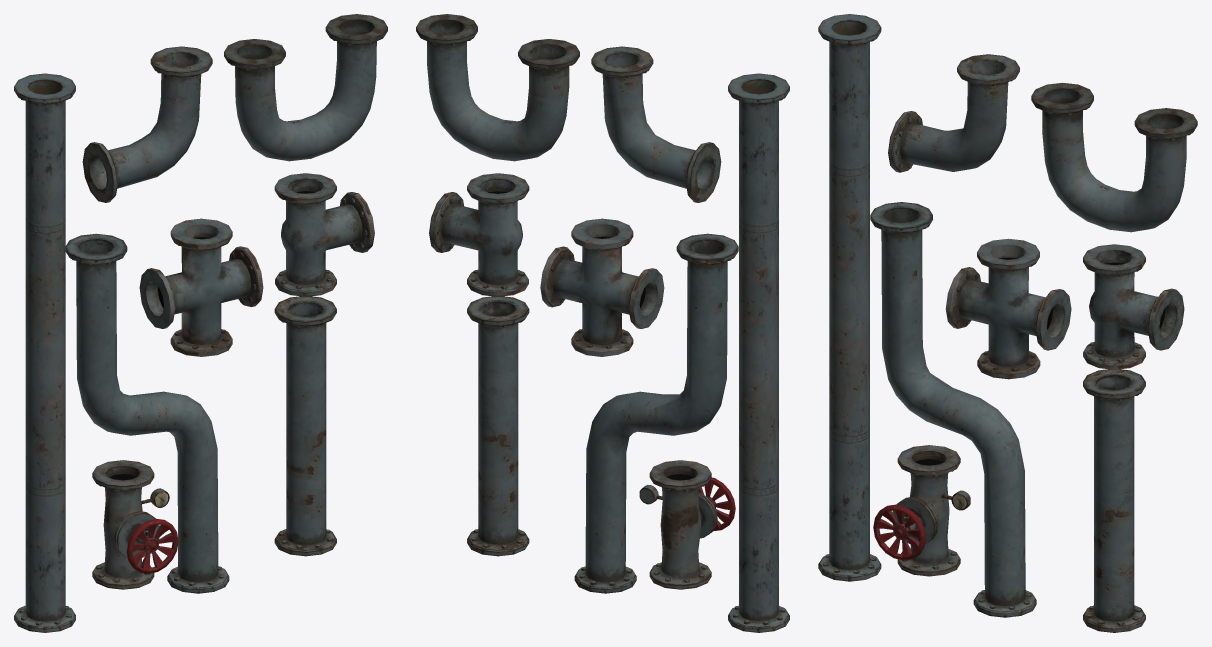
File: industrial_pipes.glb
3 views of the same model, side by side, from view 1: azimuth 30°, elevation 25°; view 2: azimuth 150°, elevation 25°; view 3: azimuth 330°, elevation 25° (orthographic).
Visible parts, largest first — view 1: modular_industrial_pipes_01_pipe01, modular_industrial_pipes_01_pipe05; view 2: modular_industrial_pipes_01_pipe01, modular_industrial_pipes_01_pipe05; view 3: modular_industrial_pipes_01_pipe01, modular_industrial_pipes_01_pipe05.
Boxes of the visible parts, bbox=[...] form: modular_industrial_pipes_01_pipe01: bbox=[14, 46, 336, 632]; modular_industrial_pipes_01_pipe05: bbox=[92, 14, 387, 589]; modular_industrial_pipes_01_pipe01: bbox=[467, 46, 789, 632]; modular_industrial_pipes_01_pipe05: bbox=[416, 14, 735, 589]; modular_industrial_pipes_01_pipe01: bbox=[818, 14, 1145, 632]; modular_industrial_pipes_01_pipe05: bbox=[873, 82, 1197, 576].
Size of the model in its own units: 1.4 by 1.95 by 0.3072.
Materials: 2 (2 with a texture image).
